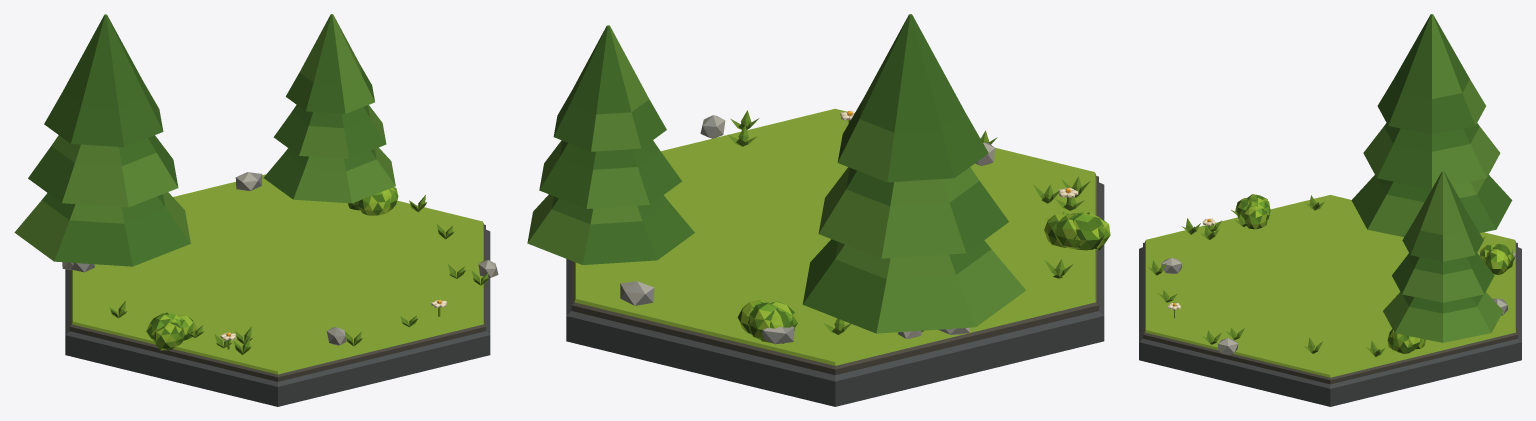
File: hex_meadow_building.glb
The picture shows the model from 3 angles, left to right: view 1: azimuth 30°, elevation 25°; view 2: azimuth 150°, elevation 25°; view 3: azimuth 270°, elevation 25°; orthographic projection. The views are drawn at different scales.
Visible parts, largest first — view 1: Hex meadow, Hex stone foundation, Angular pine crown, Angular pine crown.002, Angular pine crown.001, Angular pine crown.003, Angular pine crown.005, Angular pine crown.004, Hex earth rim, Leaf cluster.007, Leaf cluster.010, Meadow stone.005; view 2: Hex meadow, Hex stone foundation, Angular pine crown, Angular pine crown.002, Angular pine crown.001, Angular pine crown.003, Angular pine crown.005, Angular pine crown.004, Hex earth rim, Leaf cluster.005, Meadow stone.005, Leaf cluster.014 (+1 smaller); view 3: Hex meadow, Hex stone foundation, Angular pine crown.002, Angular pine crown.001, Angular pine crown, Angular pine crown.003, Angular pine crown.005, Angular pine crown.004, Hex earth rim, Leaf cluster.015, Leaf cluster.004.
Part boxes in pixels (left/top/right/bottom): Hex meadow: left=71, top=174, right=483, bottom=374; Hex stone foundation: left=65, top=229, right=490, bottom=406; Angular pine crown: left=14, top=192, right=190, bottom=266; Angular pine crown.002: left=44, top=14, right=163, bottom=147; Angular pine crown.001: left=28, top=135, right=178, bottom=207; Angular pine crown.003: left=263, top=147, right=395, bottom=203; Angular pine crown.005: left=286, top=14, right=374, bottom=113; Angular pine crown.004: left=273, top=105, right=386, bottom=158; Hex earth rim: left=69, top=224, right=485, bottom=381; Leaf cluster.007: left=152, top=322, right=184, bottom=350; Leaf cluster.010: left=358, top=192, right=391, bottom=215; Meadow stone.005: left=235, top=172, right=262, bottom=190; Hex meadow: left=574, top=108, right=1096, bottom=365; Hex stone foundation: left=566, top=182, right=1104, bottom=406; Angular pine crown: left=802, top=239, right=1025, bottom=333; Angular pine crown.002: left=837, top=14, right=988, bottom=182; Angular pine crown.001: left=818, top=167, right=1008, bottom=258; Angular pine crown.003: left=527, top=194, right=694, bottom=264; Angular pine crown.005: left=553, top=25, right=666, bottom=151; Angular pine crown.004: left=539, top=140, right=682, bottom=208; Hex earth rim: left=571, top=176, right=1098, bottom=375; Leaf cluster.005: left=1071, top=212, right=1104, bottom=250; Meadow stone.005: left=620, top=281, right=654, bottom=305; Leaf cluster.014: left=748, top=302, right=780, bottom=339; Hex meadow: left=1145, top=195, right=1515, bottom=377; Hex stone foundation: left=1139, top=247, right=1521, bottom=406; Angular pine crown.002: left=1377, top=14, right=1485, bottom=134; Angular pine crown.001: left=1363, top=123, right=1500, bottom=189; Angular pine crown: left=1351, top=175, right=1512, bottom=236; Angular pine crown.003: left=1383, top=292, right=1503, bottom=342; Angular pine crown.005: left=1402, top=171, right=1483, bottom=261; Angular pine crown.004: left=1392, top=253, right=1494, bottom=302; Hex earth rim: left=1143, top=242, right=1517, bottom=384; Leaf cluster.015: left=1485, top=249, right=1508, bottom=274; Leaf cluster.004: left=1243, top=206, right=1267, bottom=229.
Bounding box in the file's own units: 5.1 × 3.16 × 4.42.
